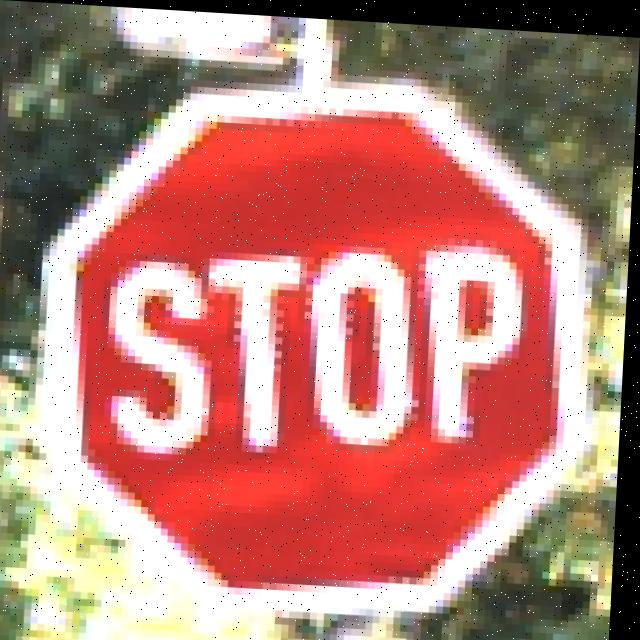stop: (56, 80, 606, 635)
